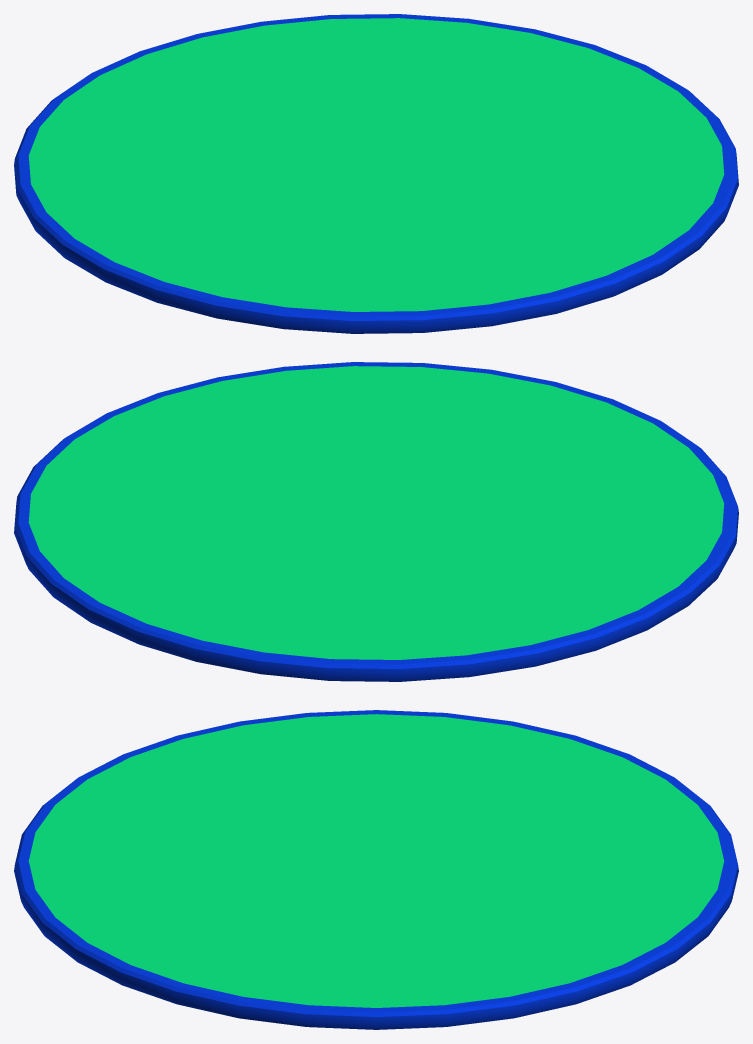
The model's file is Stars_low.fbx.
3 views of the same model, one above another, from view 1: azimuth 30°, elevation 25°; view 2: azimuth 150°, elevation 25°; view 3: azimuth 270°, elevation 25° (orthographic).
Parts seen in each view (by area): view 1: Stars_low; view 2: Stars_low; view 3: Stars_low.
Boxes of the visible parts, left/top/right/bottom form: Stars_low: left=14, top=14, right=738, bottom=333; Stars_low: left=14, top=362, right=738, bottom=681; Stars_low: left=14, top=710, right=738, bottom=1029.
Size of the model in its own units: 6.18 by 0.1834 by 6.18.
